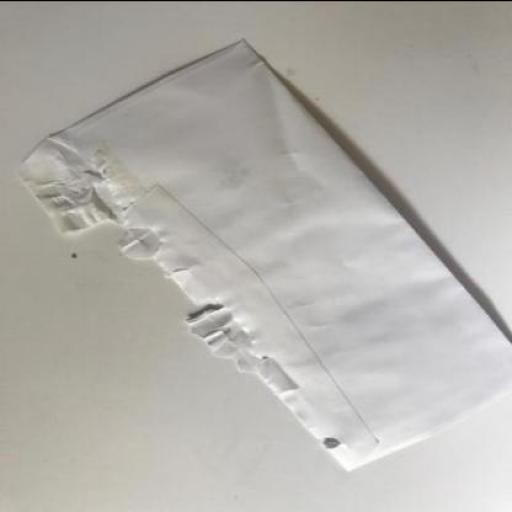paper: (18, 38, 511, 472)
